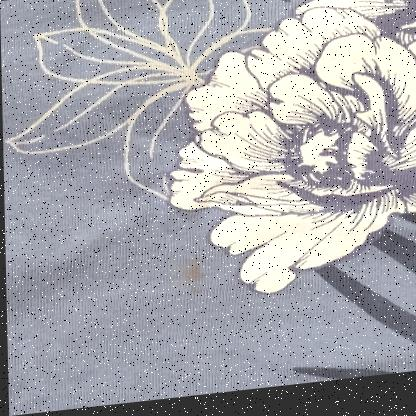spot: (175, 246, 208, 305)
